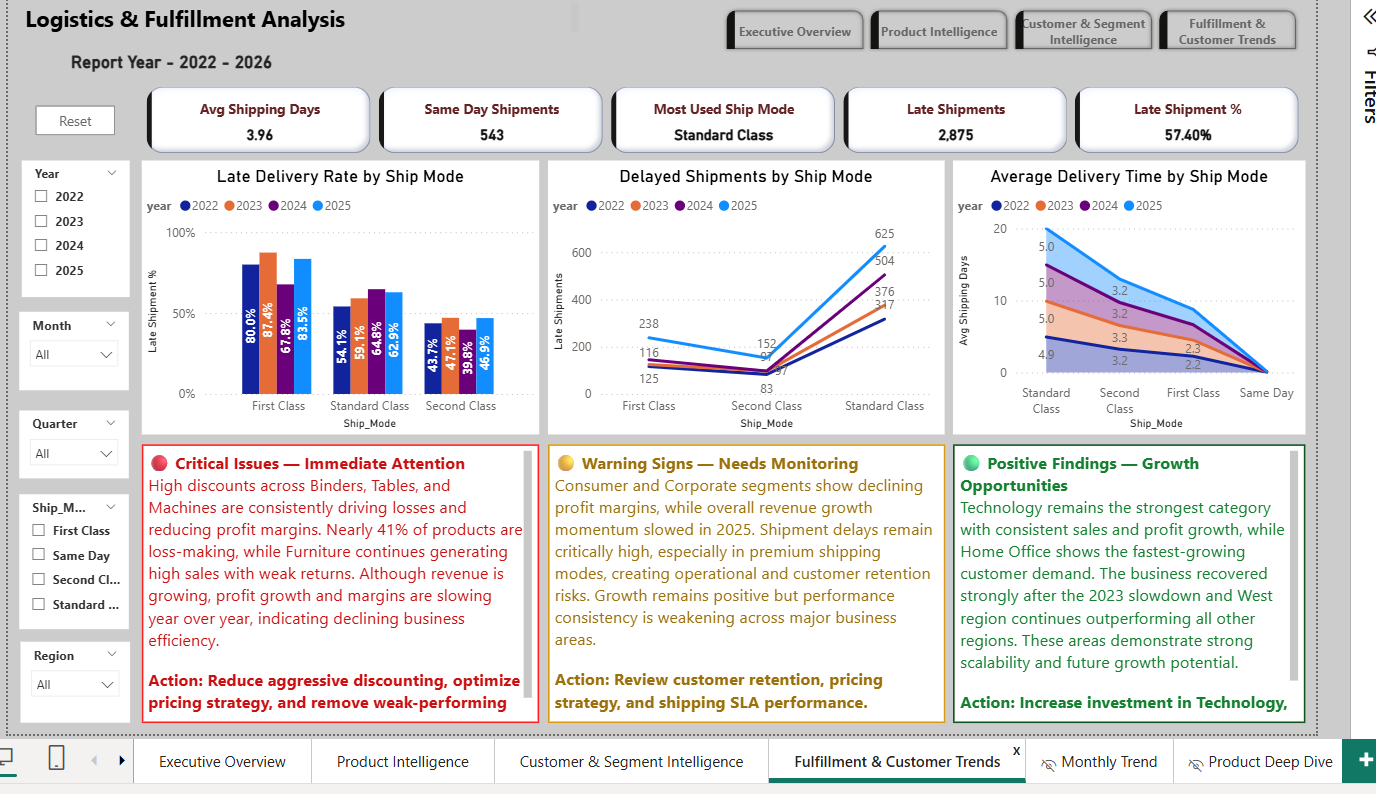

Layout of this report page (visuals, bound fields, positions):
{"tool":"powerbi","page":{"name":"Fulfillment & Customer Trends","canvas":[1280,720],"ordinal":3},"visuals":[{"type":"textbox","box":[12,0,551.5,46.5],"z":0},{"type":"cardVisual","fields":{"Data":["_Measure_productKPIs.Avg Shipping Days","_Measure_productKPIs.Same Day Orders","_Measure_productKPIs.Most Used Ship Mode","_Measure_productKPIs.Late Shipments","_Measure_productKPIs.Late Shipment %"]},"box":[130.8,81.9,1138.5,75.8],"z":1000},{"type":"slicer","fields":{"Values":["sales_analytics date_dim.month_name"]},"box":[11.1,307.5,107.1,76.5],"z":2000},{"type":"slicer","fields":{"Values":["Location.region"]},"box":[12.5,630.3,107.1,79.3],"z":4000},{"type":"slicer","fields":{"Values":["sales_analytics date_dim.year"]},"box":[13.9,158.6,105.7,133.6],"z":5000},{"type":"slicer","fields":{"Values":["Date_Table.Quarter"]},"box":[11.1,403.5,107.1,66.8],"z":6000},{"type":"slicer","fields":{"Values":["Shipment.Ship_Mode"]},"box":[11.1,485.6,107.1,132.2],"z":7000},{"type":"card","fields":{"Values":["_Measure_customerKPI.Dynamic Year Title"]},"box":[55,46.5,210.3,34.2],"z":8000},{"type":"clusteredColumnChart","title":"Late Delivery Rate by Ship Mode","fields":{"Category":["Shipment.Ship_Mode"],"Series":["Date.year"],"Y":["_Measure_productKPIs.Late Shipment %"]},"box":[130.8,159,388.9,267.8],"z":9000},{"type":"lineChart","title":"Delayed Shipments by Ship Mode","fields":{"Category":["Shipment.Ship_Mode"],"Y":["_Measure_productKPIs.Late Shipments"],"Series":["Date.year"]},"box":[528.3,159,387.6,267.8],"z":10000},{"type":"stackedAreaChart","title":"Average Delivery Time by Ship Mode","fields":{"Category":["Shipment.Ship_Mode"],"Y":["_Measure_productKPIs.Avg Shipping Days"],"Series":["Date.year"]},"box":[924.5,159,344.8,267.8],"z":11000},{"type":"pageNavigator","box":[699.5,8.6,564.9,45.2],"z":12000},{"type":"textbox","box":[130.8,436.6,388.9,272.7],"z":13000},{"type":"textbox","box":[528.3,436.6,388.9,272.7],"z":14000},{"type":"textbox","box":[924.5,436.6,344.8,272.7],"z":15000},{"type":"actionButton","box":[26.4,105.7,77.9,29.2],"z":16000}]}

Visuals, with their boxes on the page's 1280x720 design canvas (x1, y1, x2, y2). These are canvas units, not pixel positions in the 1376x794 screenshot, which may show the page scaled, cropped or inside an application window:
textbox: box=[12, 0, 564, 46]
cardVisual - _Measure_productKPIs.Avg Shipping Days x _Measure_productKPIs.Same Day Orders: box=[131, 82, 1269, 158]
slicer - sales_analytics date_dim.month_name: box=[11, 308, 118, 384]
slicer - Location.region: box=[12, 630, 120, 710]
slicer - sales_analytics date_dim.year: box=[14, 159, 120, 292]
slicer - Date_Table.Quarter: box=[11, 404, 118, 470]
slicer - Shipment.Ship_Mode: box=[11, 486, 118, 618]
card - _Measure_customerKPI.Dynamic Year Title: box=[55, 46, 265, 81]
"Late Delivery Rate by Ship Mode" clusteredColumnChart: box=[131, 159, 520, 427]
"Delayed Shipments by Ship Mode" lineChart: box=[528, 159, 916, 427]
"Average Delivery Time by Ship Mode" stackedAreaChart: box=[924, 159, 1269, 427]
pageNavigator: box=[700, 9, 1264, 54]
textbox: box=[131, 437, 520, 709]
textbox: box=[528, 437, 917, 709]
textbox: box=[924, 437, 1269, 709]
actionButton: box=[26, 106, 104, 135]
